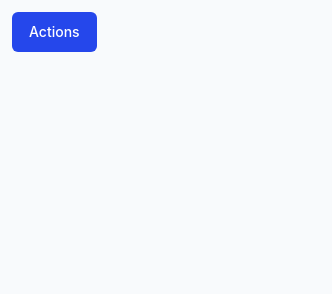
Scenario: Menu › selects an item and returns focus to the trigger
The image size is (332, 294).
Click the button "Actions" at [54, 32], box [12,12,97,52]
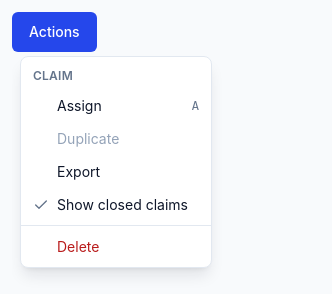
Click the menu item "Assign A" at [79, 106], box [57,97,199,114]
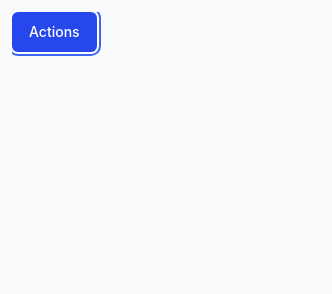
Now the menu is gone
